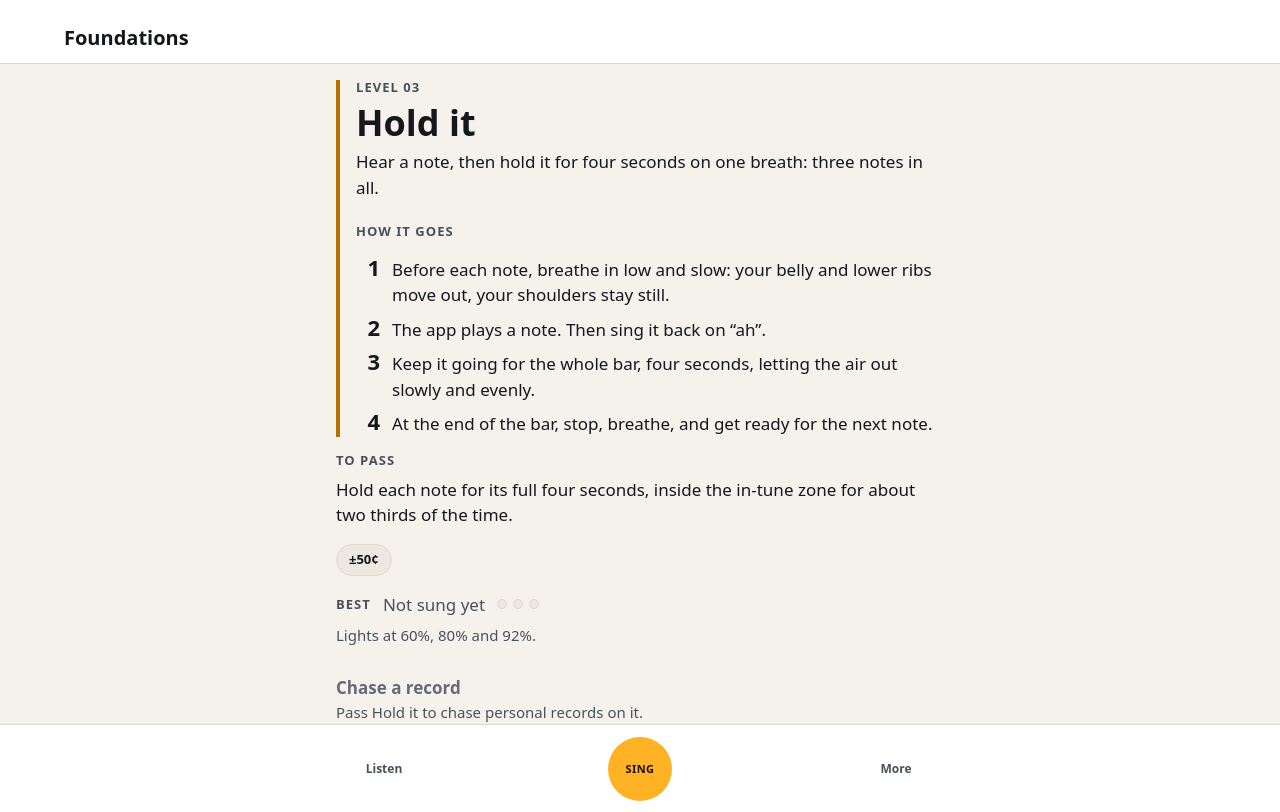
Test: Level without a lesson: Listen and More › reads Stop while the demo plays
The width and height of the screenshot is (1280, 812).
Click the button with test id "listen-button": {"x": 384, "y": 768} 336,744 -> 432,792
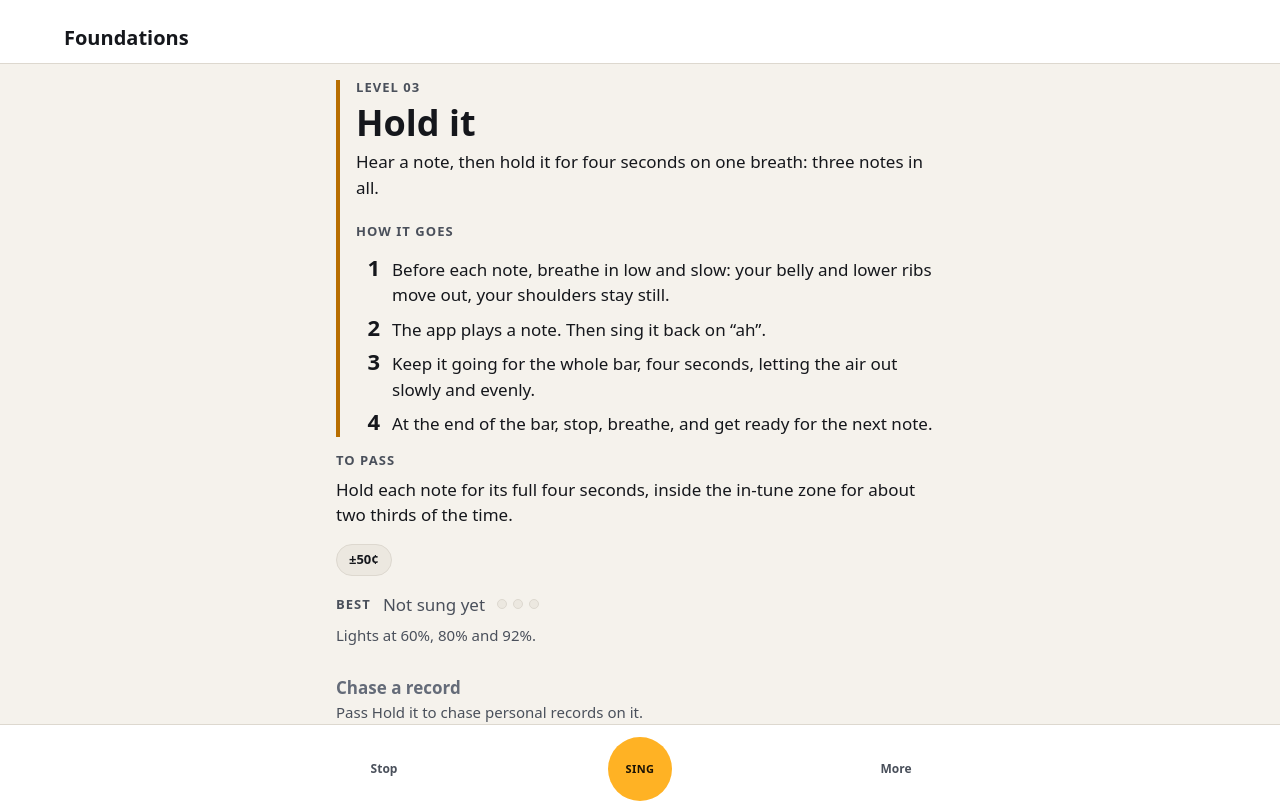
Now the button with test id "listen-button" reads "Stop", box 336,744 -> 432,792
